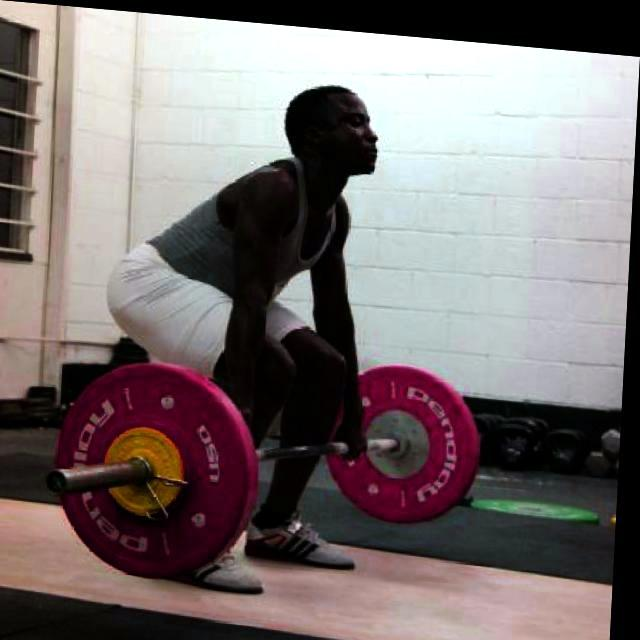barbell: (39, 352, 262, 585)
